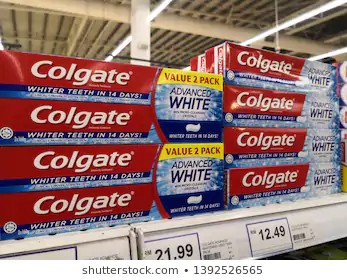colgate-family: (1, 143, 224, 238), (1, 53, 223, 143)
colgate-medium: (211, 43, 340, 97), (224, 162, 347, 216), (226, 125, 341, 169), (221, 93, 341, 127)
